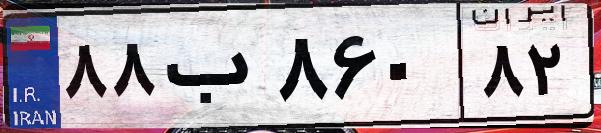0: (385, 28, 445, 110)
2: (525, 38, 570, 115)
6: (330, 28, 385, 110)
8: (270, 28, 330, 110), (57, 26, 110, 100), (475, 38, 525, 113), (110, 28, 158, 98)
ب: (158, 20, 270, 120)
